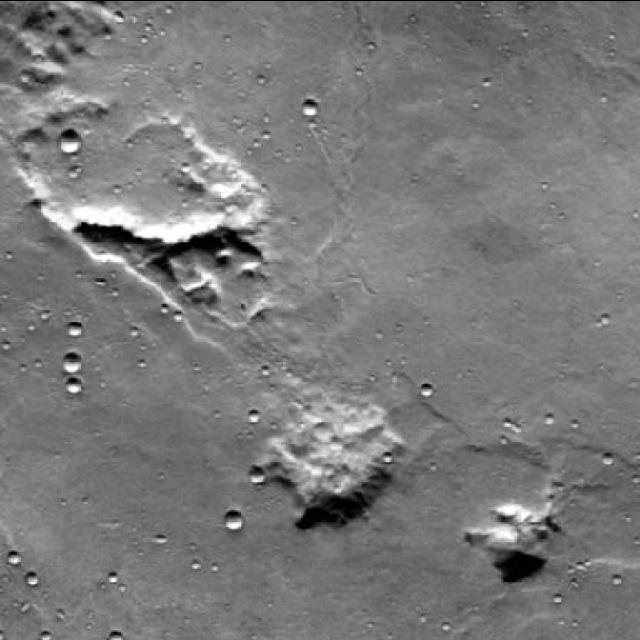crater: (218, 524, 236, 542), (61, 360, 78, 378), (62, 142, 78, 160), (302, 108, 318, 125), (64, 386, 81, 402), (250, 475, 266, 491)
